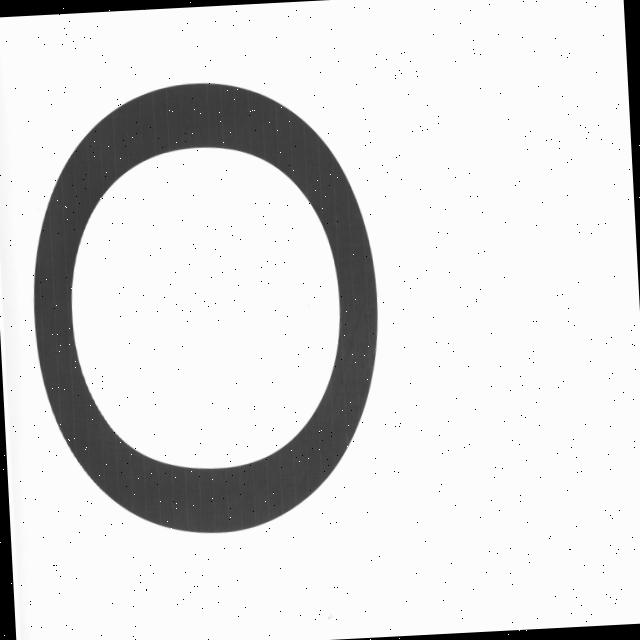o: (3, 49, 410, 552)
